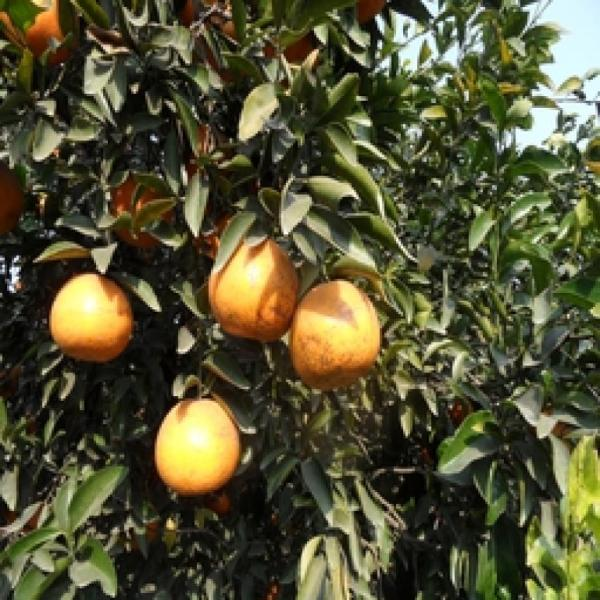Canker: (205, 228, 299, 350), (291, 283, 383, 391)
Sana: (151, 388, 249, 496), (42, 264, 139, 363)
